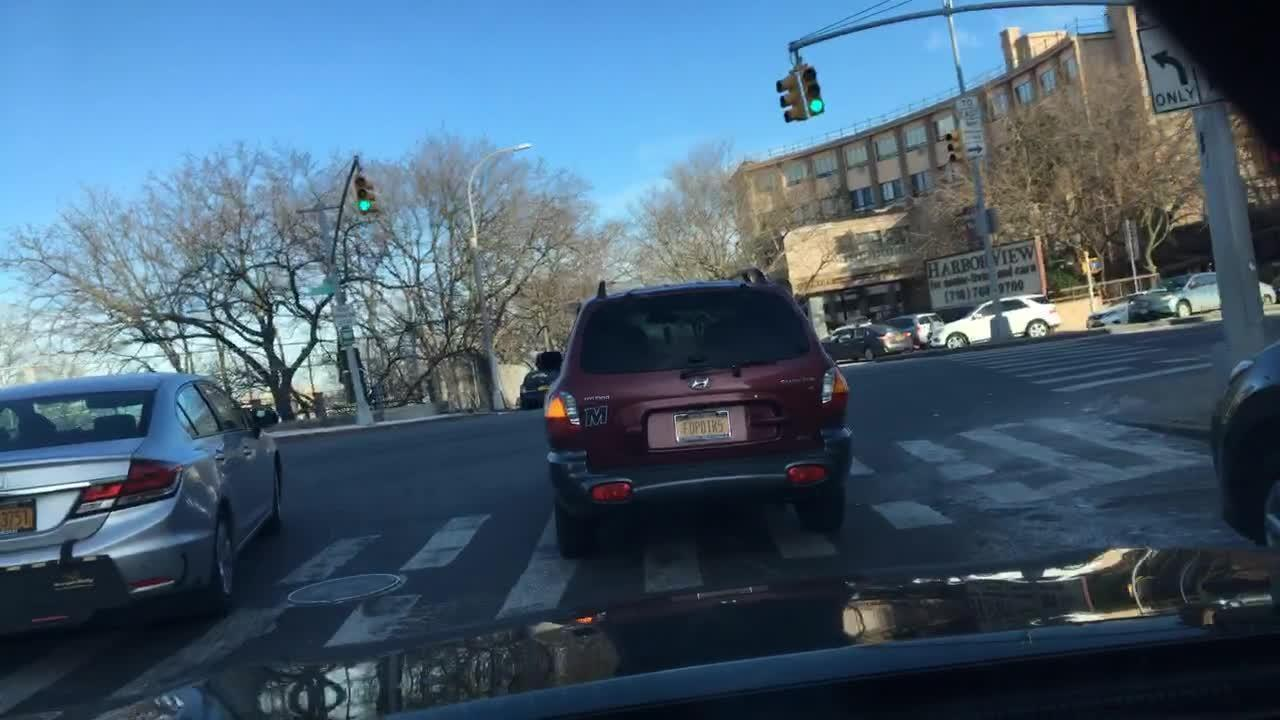Hyundai: (683, 370, 715, 396)
